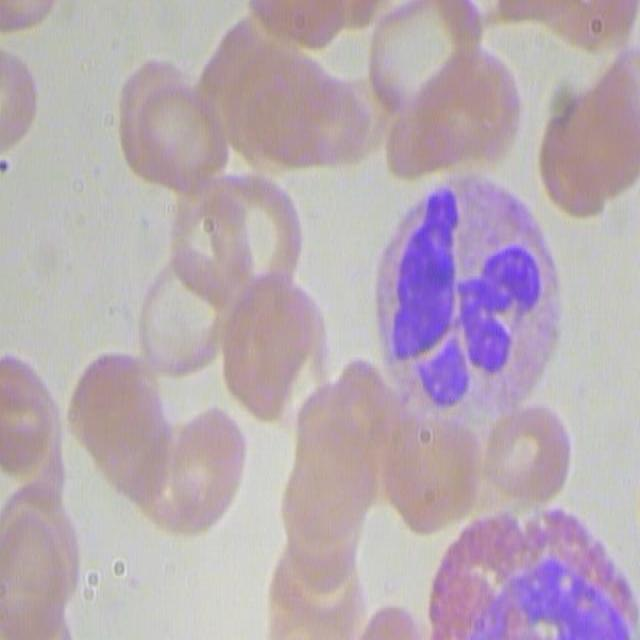RBC: (202, 4, 378, 181), (211, 279, 328, 429), (112, 59, 228, 195), (295, 361, 402, 503), (534, 72, 638, 216), (68, 348, 178, 484), (210, 162, 311, 305), (360, 0, 479, 120), (468, 388, 577, 508), (134, 263, 233, 388), (0, 482, 75, 640), (263, 534, 373, 638), (156, 403, 246, 526), (0, 347, 61, 495)
WBC: (366, 166, 564, 430), (427, 499, 640, 636)
